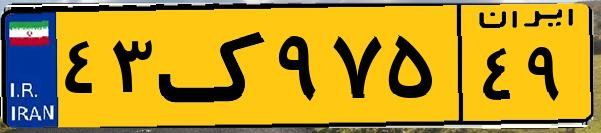3: (110, 28, 158, 98)
4: (57, 26, 110, 100), (475, 38, 525, 113)
5: (385, 28, 445, 110)
7: (330, 28, 385, 110)
9: (270, 28, 330, 110), (525, 38, 570, 115)
ک: (158, 12, 270, 120)
